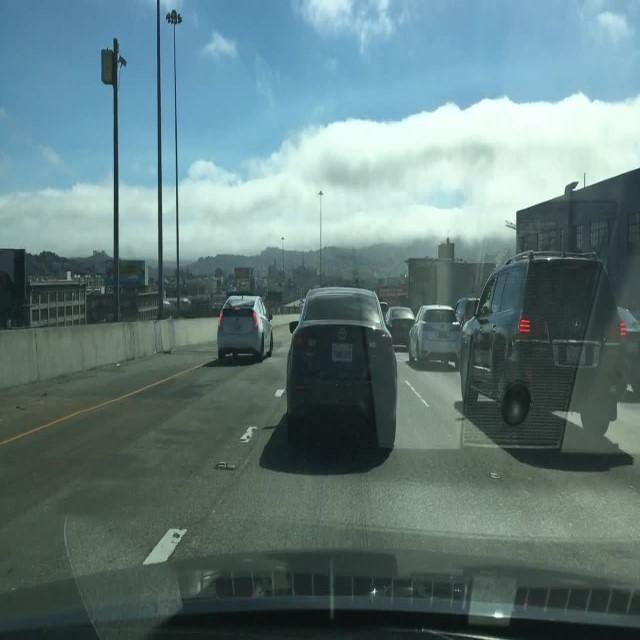normal: (451, 234, 635, 457), (269, 279, 432, 472), (216, 296, 273, 366), (409, 306, 458, 372), (384, 306, 414, 349)
